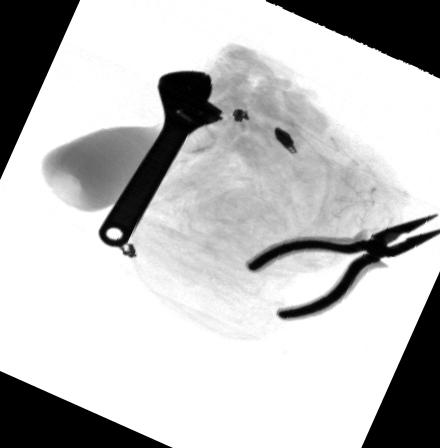Pliers: (241, 211, 440, 319)
Wrench: (97, 68, 228, 247)
